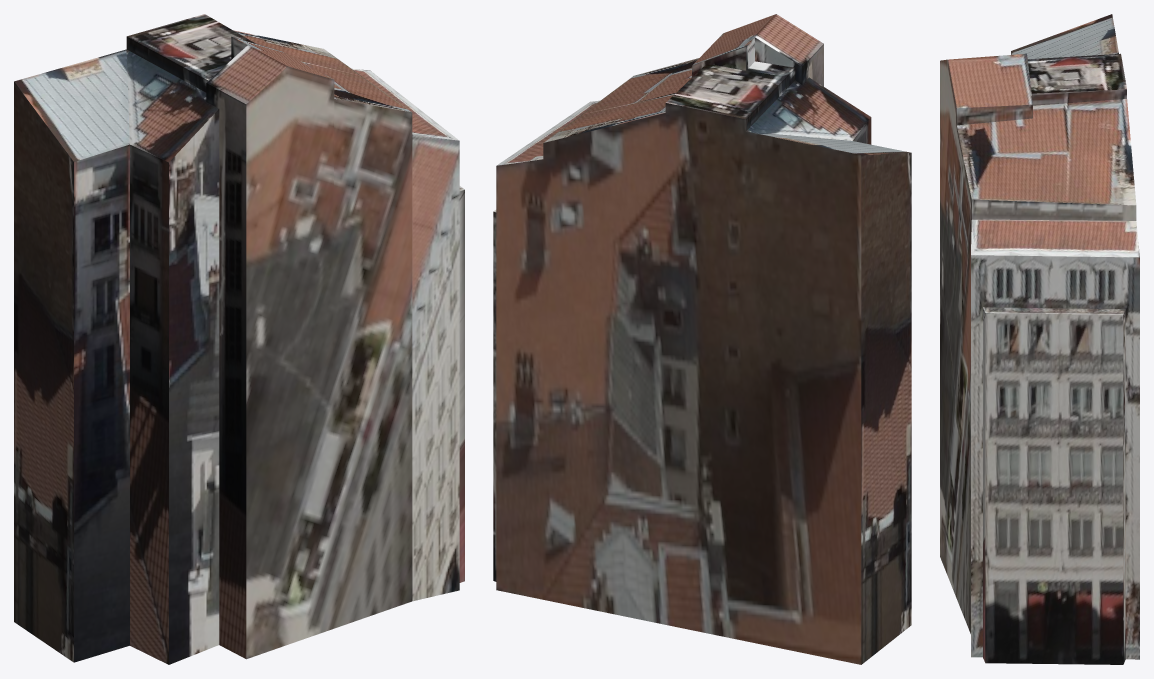
The picture shows the model from 3 angles, left to right: view 1: azimuth 30°, elevation 25°; view 2: azimuth 150°, elevation 25°; view 3: azimuth 270°, elevation 25°; orthographic projection. The views are drawn at different scales.
Parts seen in each view (by area): view 1: Z_UP; view 2: Z_UP; view 3: Z_UP.
Boxes of the visible parts, box(x1,y1,x2,y2) form: Z_UP: box(14, 14, 464, 664); Z_UP: box(493, 14, 911, 664); Z_UP: box(940, 14, 1139, 664).
Bounding box in the file's own units: 20.94 × 30.16 × 10.56.
Materials: 2 (1 with a texture image).
